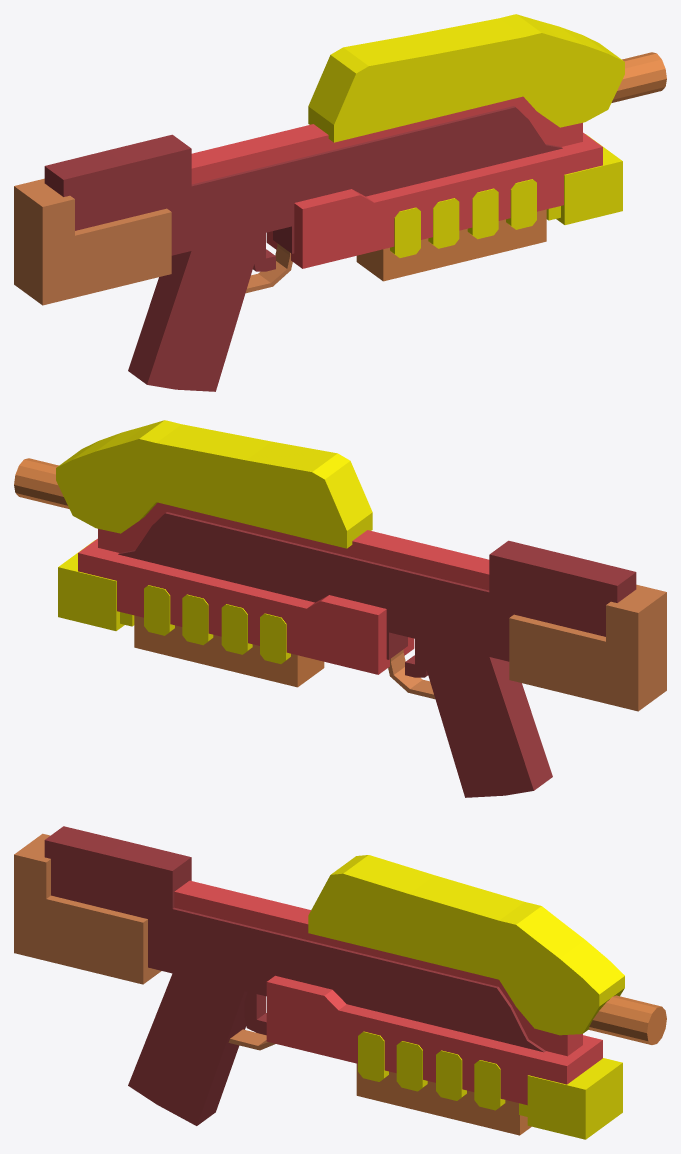
3 views of the same model, one above another, from view 1: azimuth 30°, elevation 25°; view 2: azimuth 150°, elevation 25°; view 3: azimuth 330°, elevation 25° (orthographic).
Parts seen in each view (by area): view 1: 立方体.001; view 2: 立方体.001; view 3: 立方体.001.
Part boxes in pixels (x1,y1,x2,y2): 立方体.001: (14,14,666,391); 立方体.001: (14,420,666,797); 立方体.001: (14,826,666,1139).
Bounding box in the file's own units: 379 × 168 × 38.77.
